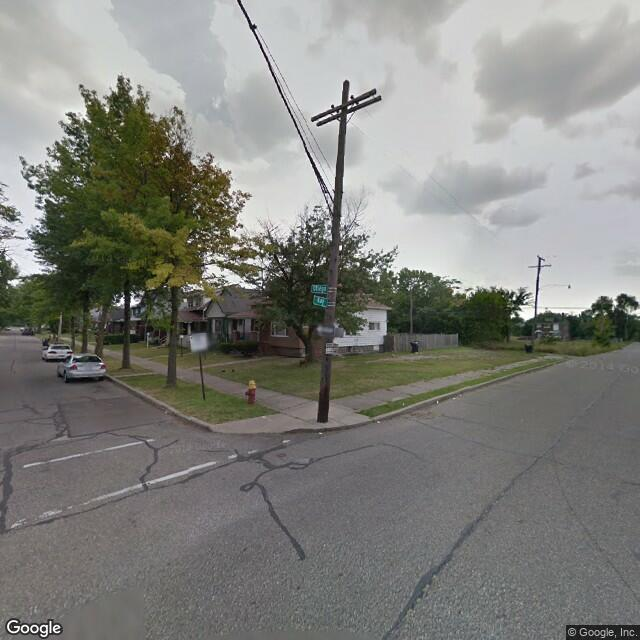litter: (399, 400, 408, 404), (261, 413, 267, 418), (317, 429, 322, 434), (375, 420, 379, 423), (436, 399, 438, 401)
